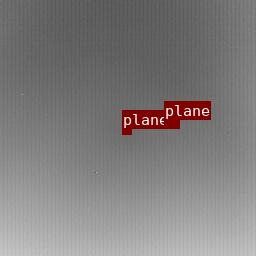plane: (164, 120, 179, 128), (122, 129, 131, 132)
